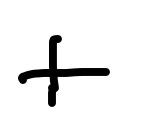plus: (18, 35, 110, 108)
